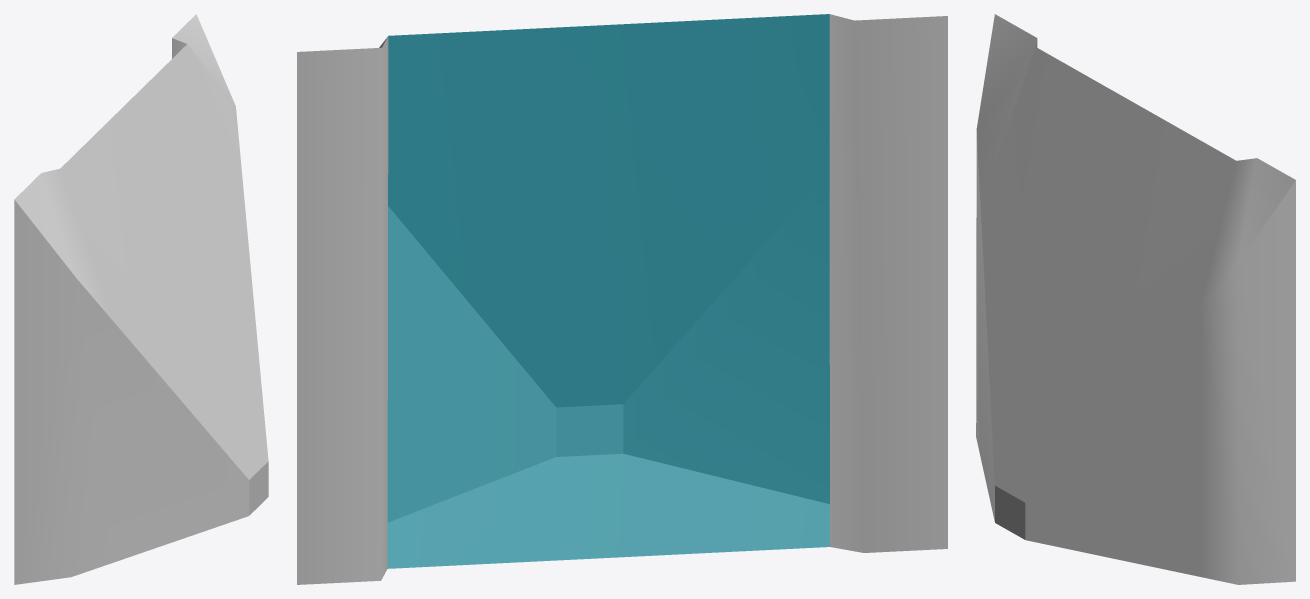
File: ComputerFO1.fbx
3 views of the same model, side by side, from view 1: azimuth 30°, elevation 25°; view 2: azimuth 150°, elevation 25°; view 3: azimuth 270°, elevation 25° (orthographic). The views are drawn at different scales.
Parts seen in each view (by area): view 1: pasted__pCube2; view 2: pasted__pCube2; view 3: pasted__pCube2.
Part boxes in pixels (x1,y1,x2,y2): pasted__pCube2: (14, 14, 268, 584); pasted__pCube2: (297, 14, 947, 584); pasted__pCube2: (976, 14, 1295, 584).
Bounding box in the file's own units: 3.3 × 3.6 × 2.59.
